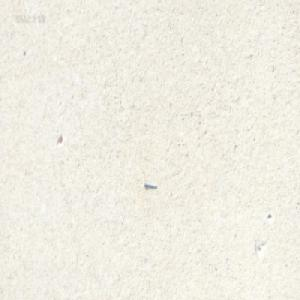Nail: (144, 181, 156, 189)
